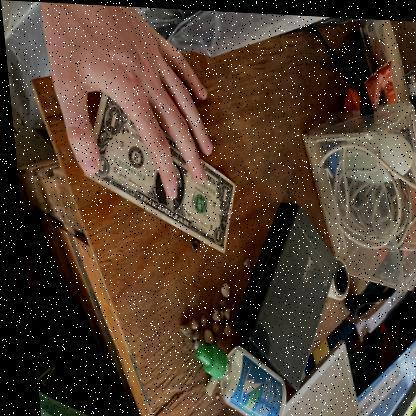dollar_front: (79, 87, 232, 253)
